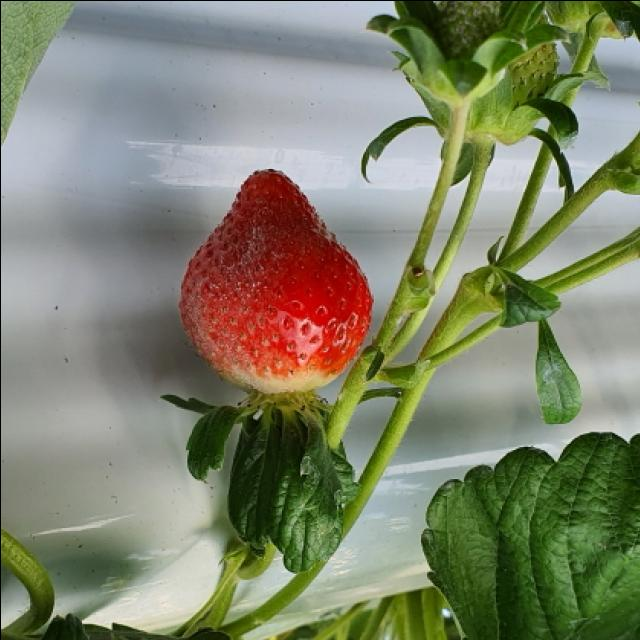Powdery Mildew Fruit: (178, 211, 288, 390)
